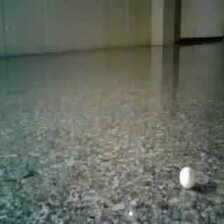w: (179, 167, 196, 188)
